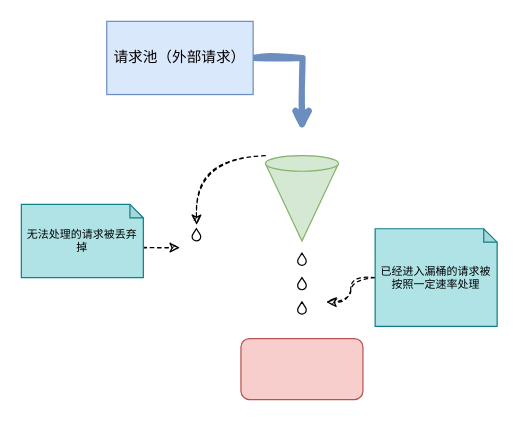
Some shapes in this 519 by 421 pixel diagram are drawn without their labels. The shapes that lost their labels are listed below. From the top down, each one's centre as x and y in pixels, then its label:
At pixel 301 197: "漏桶".
At pixel 301 368: "接口服务".
